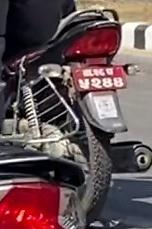license-plate: (70, 61, 133, 90)
